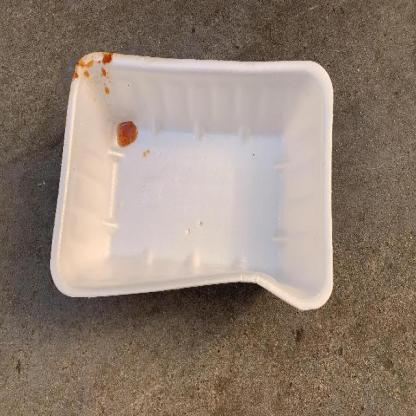Glass Cup: (48, 50, 333, 312), (50, 52, 334, 310)
